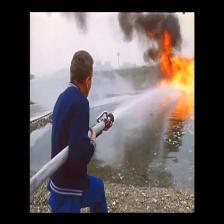fire: (156, 55, 192, 83)
smoke: (122, 15, 175, 39)
